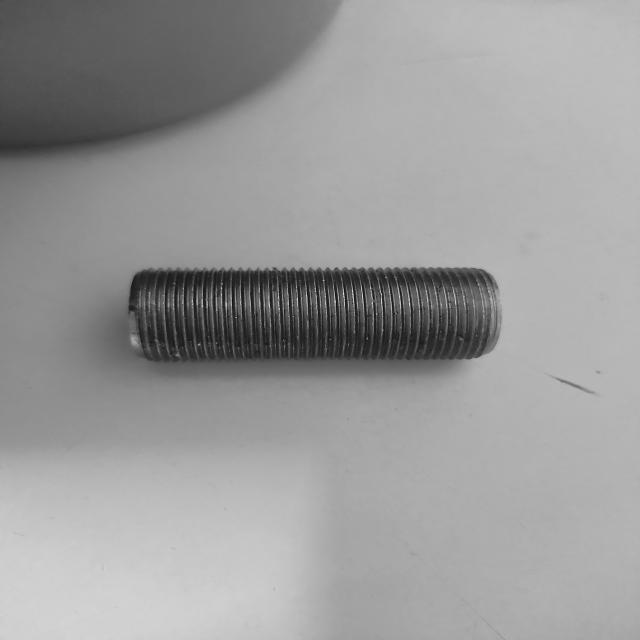Normal: (130, 266, 502, 363)
